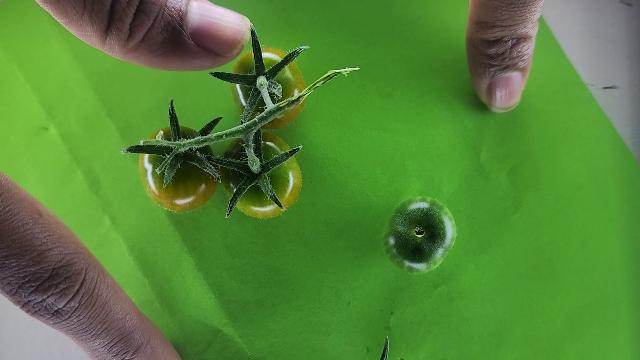Fruit Maturation: (382, 196, 458, 274)
Fully Grown: (217, 130, 302, 218), (139, 125, 221, 213), (230, 44, 307, 129)
